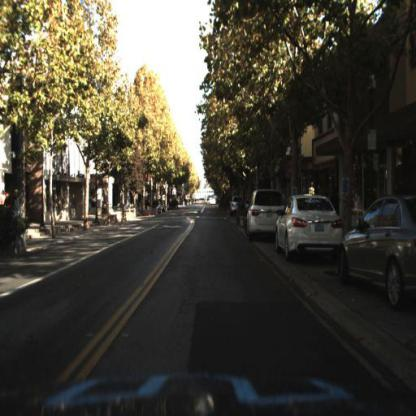car: (336, 190, 416, 304), (274, 192, 341, 258), (245, 187, 286, 244), (229, 194, 244, 215)
pedestrian: (13, 191, 22, 227), (5, 194, 13, 222), (1, 190, 8, 213)
